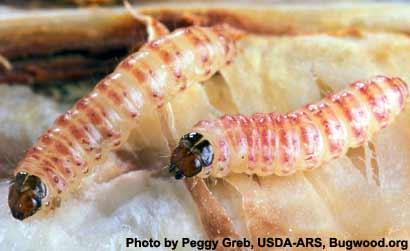Insects: (3, 21, 237, 227), (166, 69, 410, 196)
